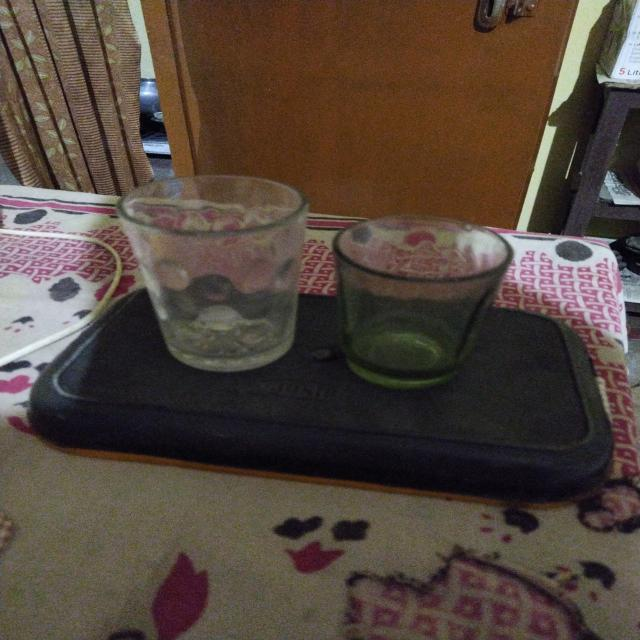Glass: (114, 170, 314, 374), (329, 210, 518, 393)
